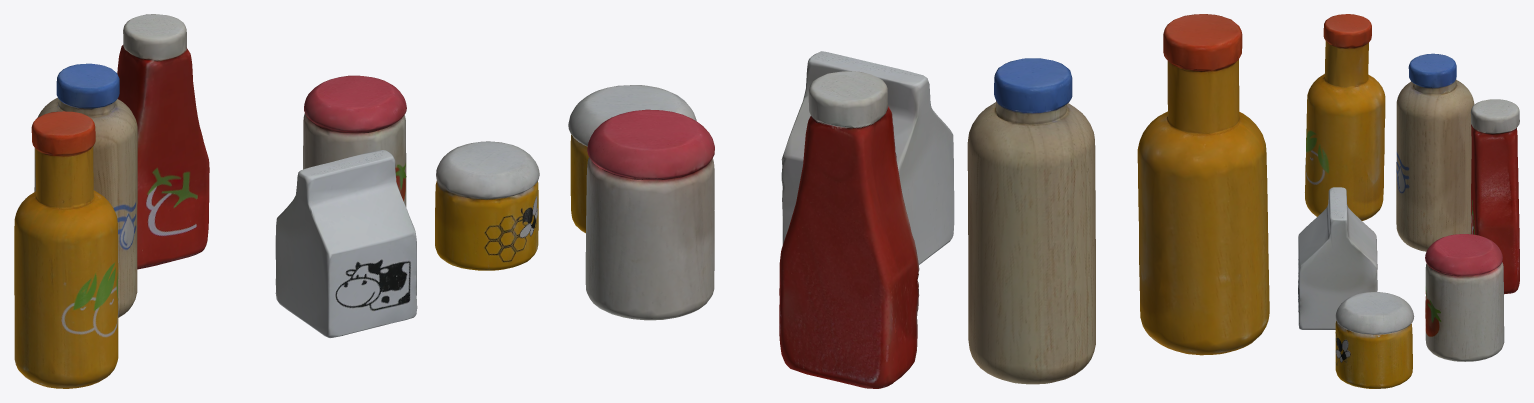
File: FOOD_BEVERAGE_SET.glb
3 renders of one model, left to right at view 1: azimuth 30°, elevation 25°; view 2: azimuth 150°, elevation 25°; view 3: azimuth 270°, elevation 25°, orthographic. The views are drawn at different scales.
Parts seen in each view (by area): view 1: FOOD_BEVERAGE_SET; view 2: FOOD_BEVERAGE_SET; view 3: FOOD_BEVERAGE_SET.
Part boxes in pixels (<box>): FOOD_BEVERAGE_SET: <box>14,14,539,388</box>; FOOD_BEVERAGE_SET: <box>568,14,1269,388</box>; FOOD_BEVERAGE_SET: <box>1298,14,1519,388</box>.
Size of the model in its own units: 0.2671 by 0.1202 by 0.1275.
Materials: 1 (1 with a texture image).
